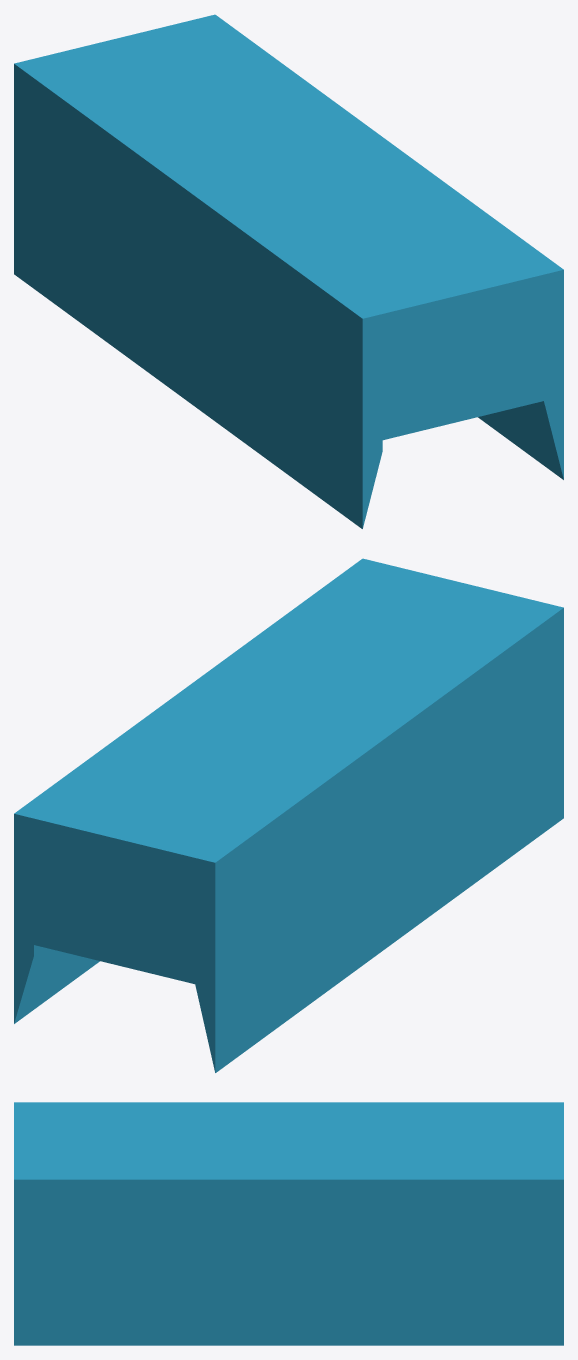
Rendered from tunnel_y_40cm_hole_300cm_len.dae.
The picture shows the model from 3 angles, top to bottom: view 1: azimuth 30°, elevation 25°; view 2: azimuth 150°, elevation 25°; view 3: azimuth 270°, elevation 25°; orthographic projection. The views are drawn at different scales.
Visible parts, largest first — view 1: Cube; view 2: Cube; view 3: Cube.
Part boxes in pixels (x1,y1,x2,y2): Cube: (14, 14, 563, 528); Cube: (14, 558, 563, 1072); Cube: (14, 1102, 563, 1345).
Bounding box in the file's own units: 1 × 3 × 1.
